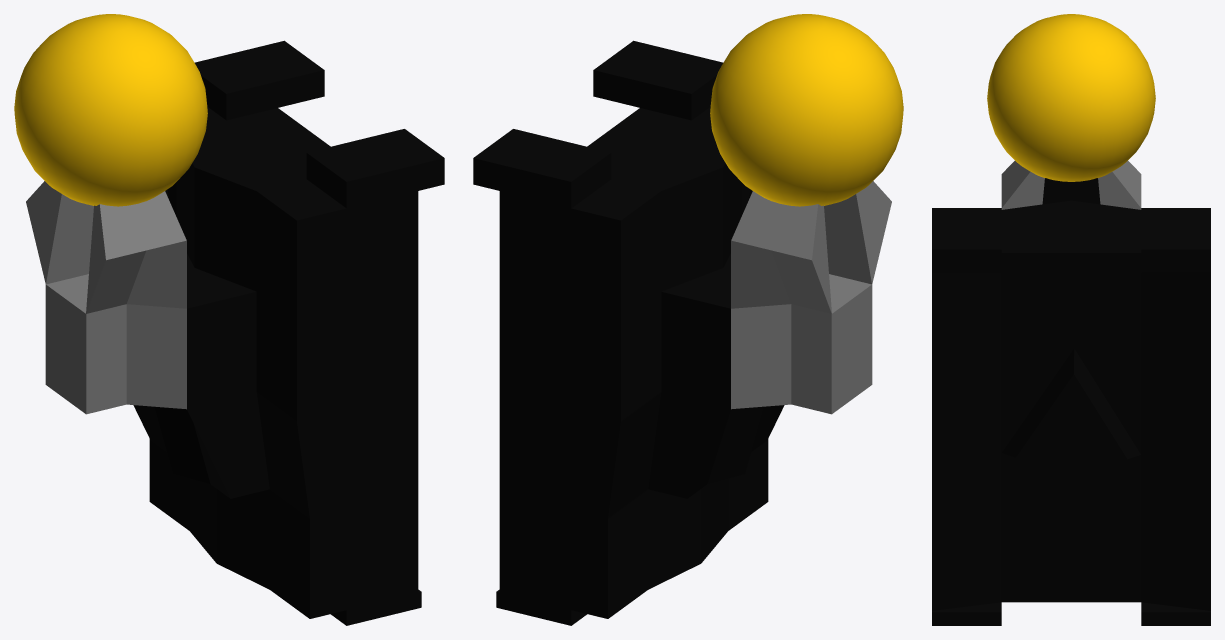
File: Shield Generator Pack.fbx
3 renders of one model, left to right at view 1: azimuth 30°, elevation 25°; view 2: azimuth 150°, elevation 25°; view 3: azimuth 270°, elevation 25°, orthographic. The views are drawn at different scales.
Visible parts, largest first — view 1: Cube, Cube.001, Sphere; view 2: Cube, Cube.001, Sphere; view 3: Cube, Sphere, Cube.001.
Part boxes in pixels (box(x1,y1,x2,y2)): Cube: box(133, 40, 444, 625); Cube.001: box(26, 181, 186, 414); Sphere: box(14, 14, 207, 206); Cube: box(473, 40, 784, 625); Cube.001: box(731, 181, 891, 414); Sphere: box(710, 14, 903, 206); Cube: box(932, 178, 1210, 625); Sphere: box(987, 14, 1155, 181); Cube.001: box(1001, 161, 1141, 209).
Size of the model in its own units: 243 by 401 by 200.
